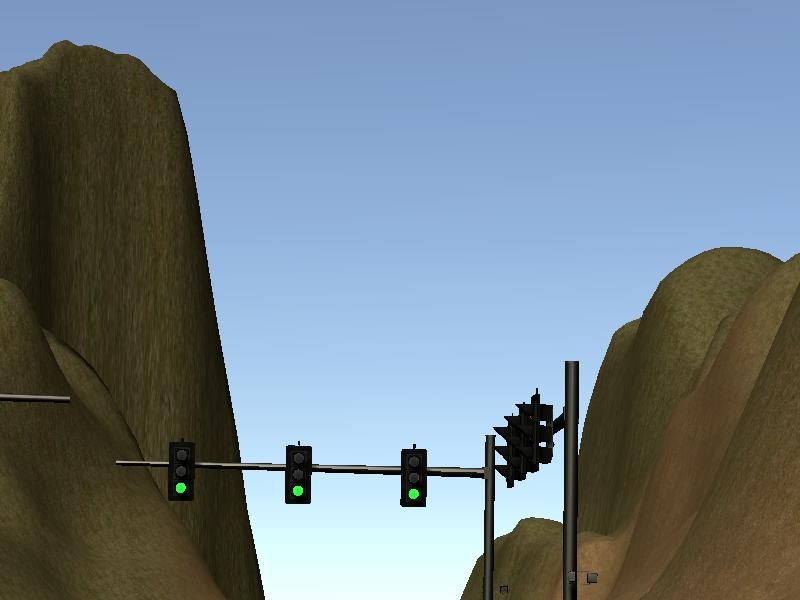Green: (285, 446, 312, 503), (400, 450, 426, 505), (170, 444, 193, 499)
